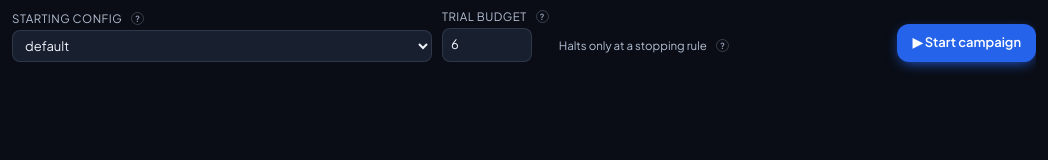
Scenario: AutoResearchCard — launch › surfaces an already-running rejection
Expected: the number field named "campaign budget" holds "6", x1=442 y1=28 x2=532 y2=62
Click the button "▶ Start campaign". click: x=967, y=43
box: x1=897 y1=24 x2=1036 y2=62
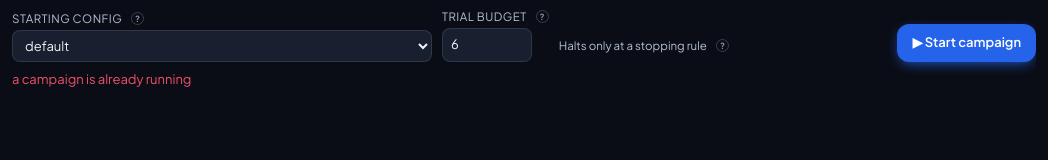
Result: the text "a campaign is already running" is shown at x1=12 y1=71 x2=192 y2=87
